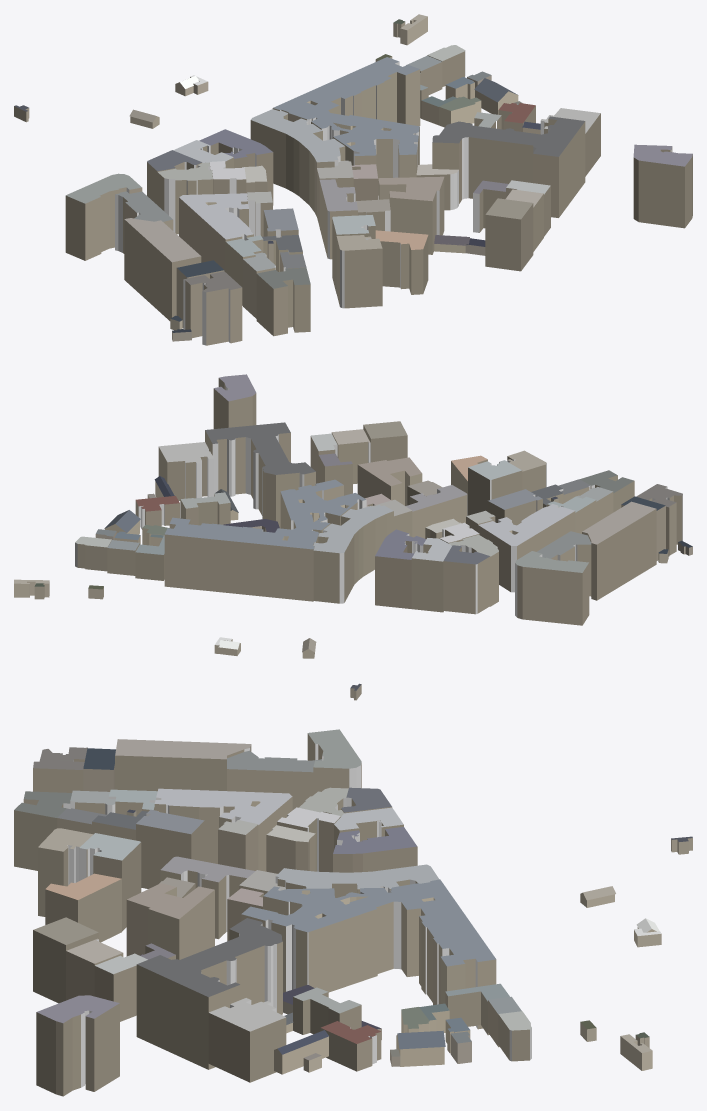
3 views of the same model, one above another, from view 1: azimuth 30°, elevation 25°; view 2: azimuth 150°, elevation 25°; view 3: azimuth 270°, elevation 25° (orthographic). The views are drawn at different scales.
Visible parts, largest first — view 1: tuile; view 2: tuile; view 3: tuile.
Boxes of the visible parts, <box> form: tuile: <box>14,14,692,345</box>; tuile: <box>14,374,692,700</box>; tuile: <box>14,729,692,1096</box>.
Bounding box in the file's own units: 256 × 31.9 × 245.
